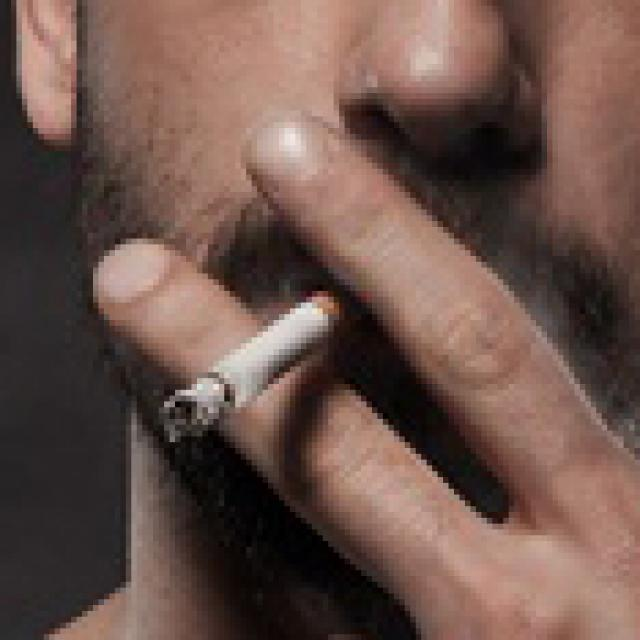smoking: (160, 282, 360, 446)
